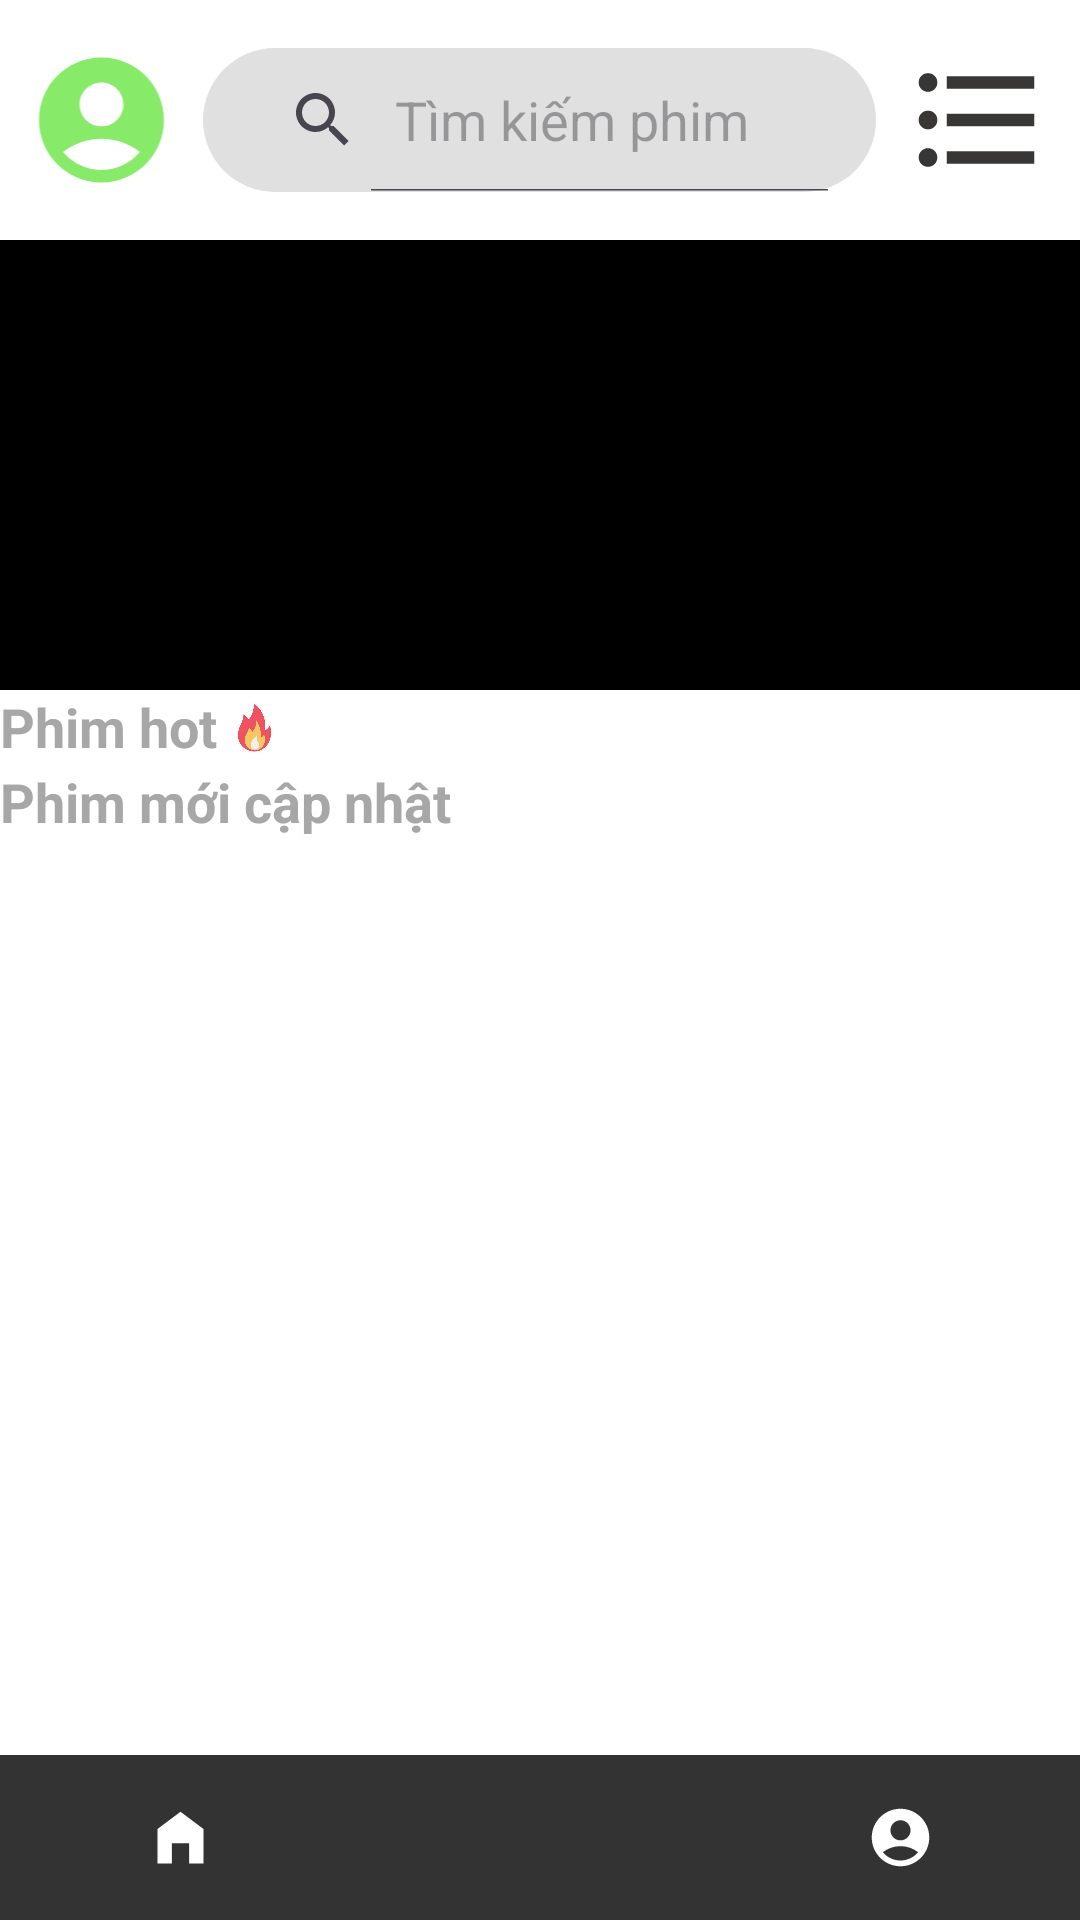

Screen size 1080*1920. Icon name, then its box in pixels as (x1, y1, x2, y2):
accout: (38, 57, 165, 183), (871, 1808, 930, 1867)
fire: (238, 704, 271, 752)
home: (157, 1812, 204, 1864)
list: (918, 73, 1035, 167)
